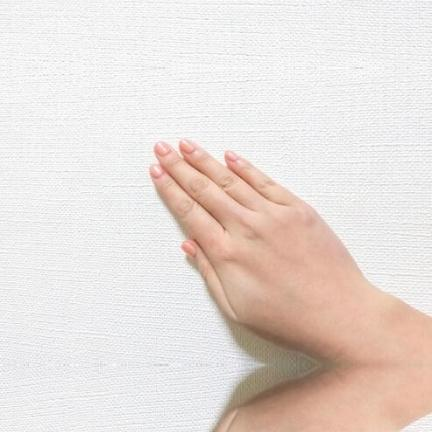Nail: (180, 240, 196, 258), (156, 141, 171, 157), (180, 138, 197, 152), (149, 163, 164, 178), (225, 150, 238, 161)
